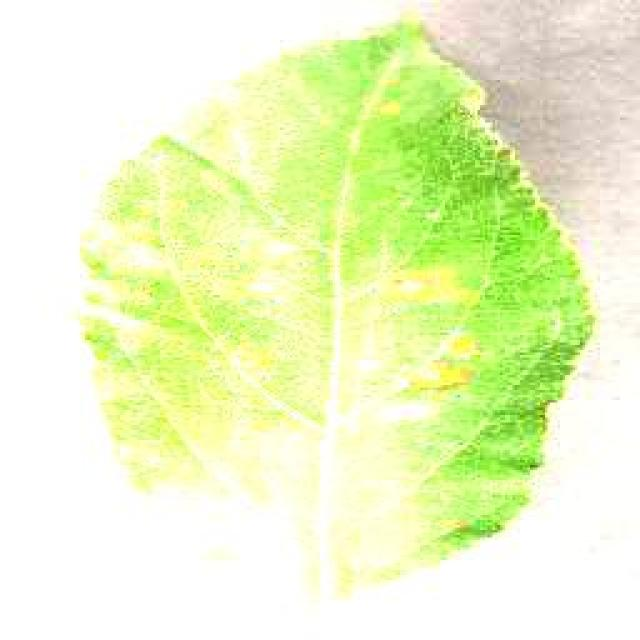apple healthy: (75, 5, 597, 597)
